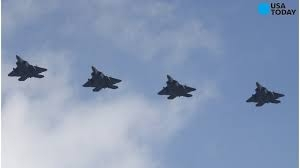flight: (7, 54, 48, 83), (82, 65, 123, 92), (245, 81, 286, 108), (157, 74, 197, 101)
